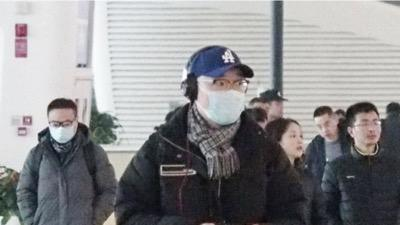with_mask: (197, 71, 248, 126), (47, 117, 74, 144)
without_mask: (355, 117, 382, 145), (280, 128, 304, 157), (315, 120, 338, 143)
